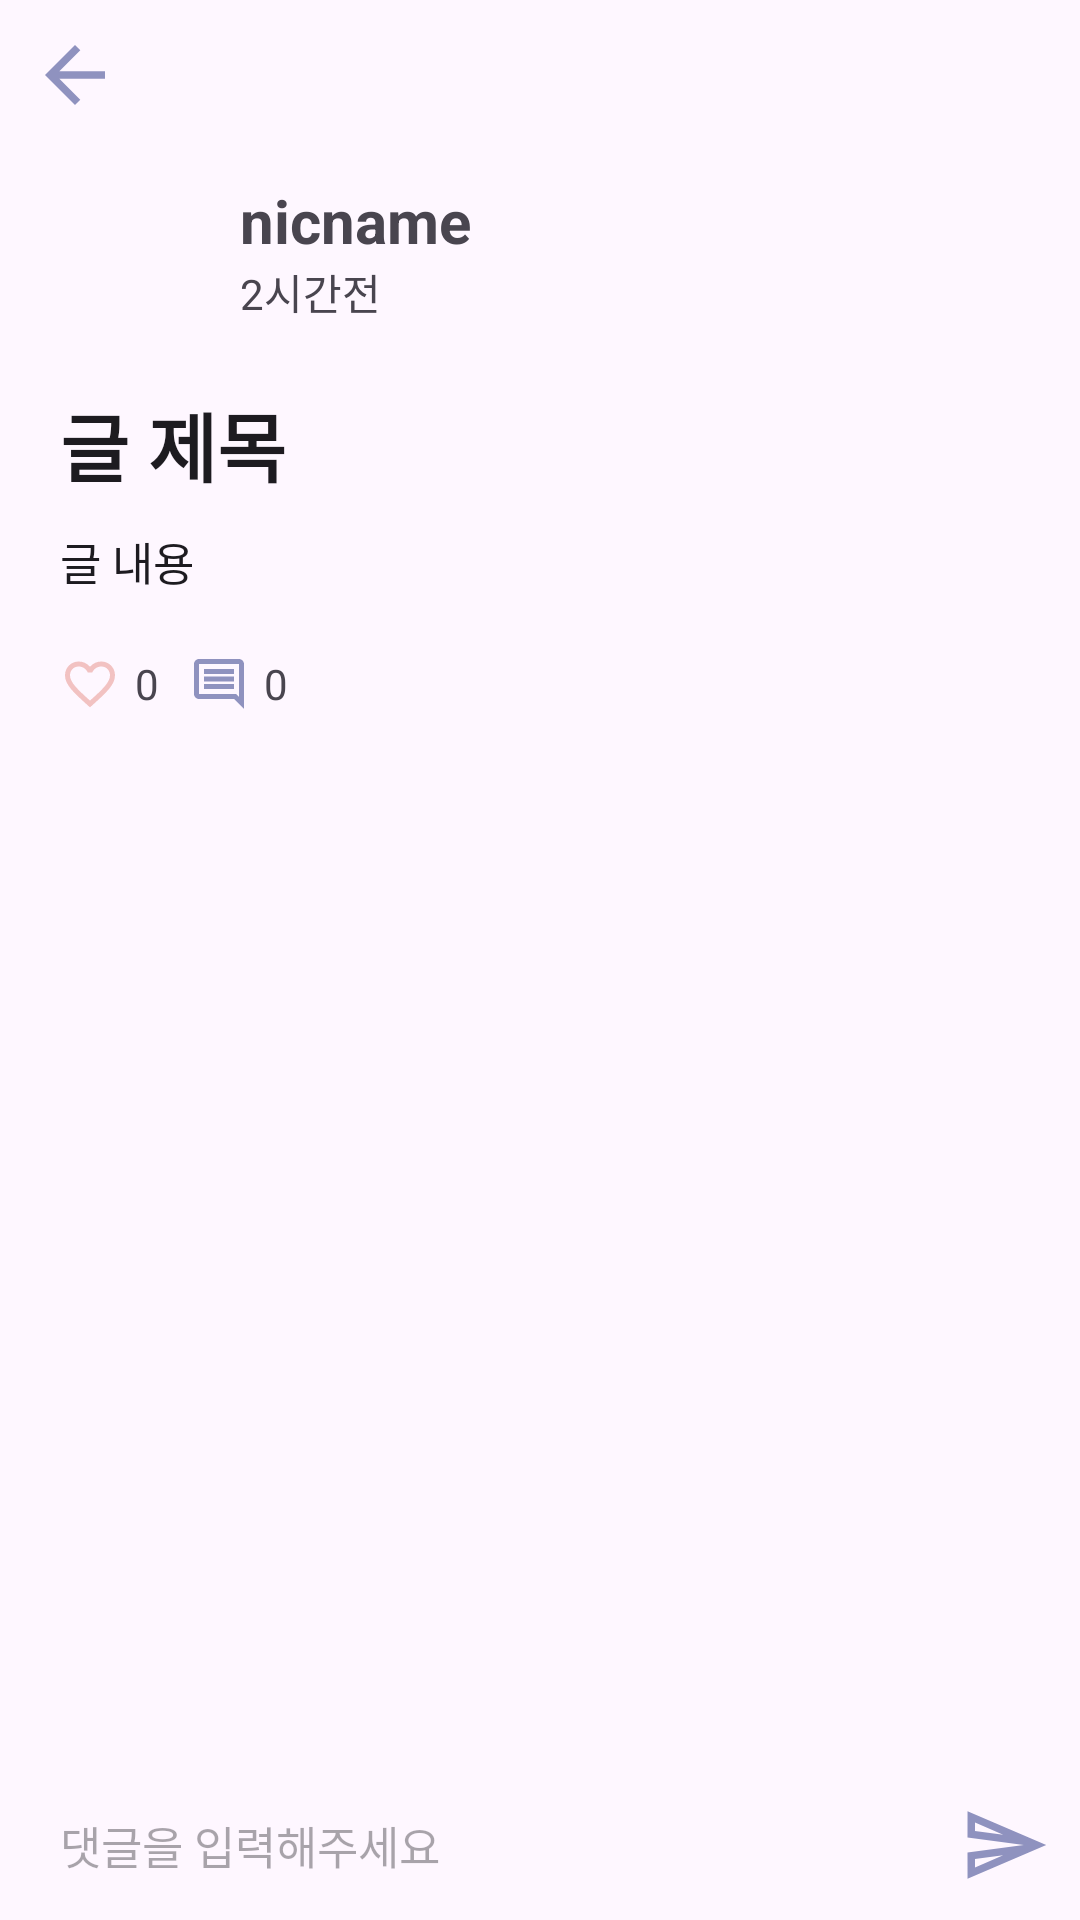

Icon bounding boxes for this 1080×1920 phone screenshot, format (x1, y1, x2, y2):
back: (45, 45, 105, 105)
comment: (194, 659, 244, 709)
like empty: (65, 661, 115, 707)
send: (967, 1811, 1046, 1879)
